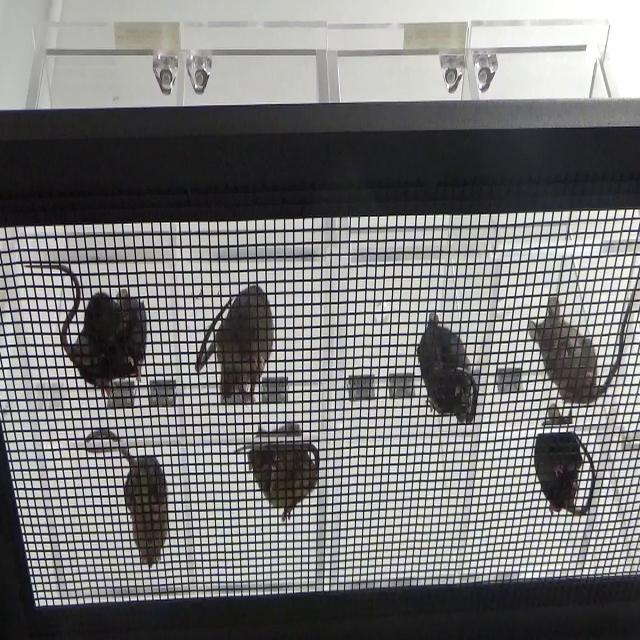lick tail: (404, 294, 484, 436)
scratch: (22, 252, 156, 397)
